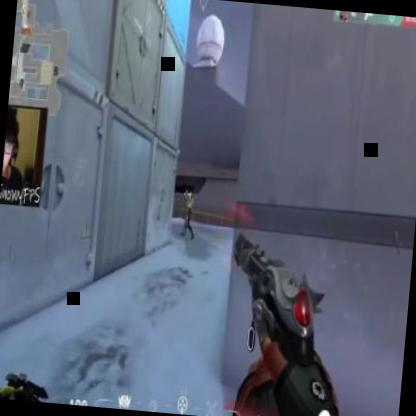enemy: (180, 190, 198, 241)
enemy_head: (187, 190, 194, 200)
